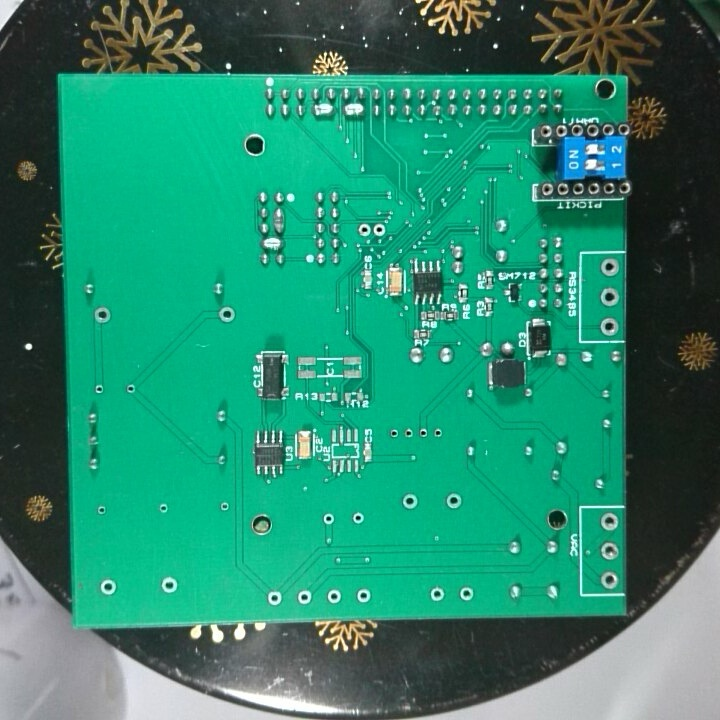F: (598, 540, 622, 565), (597, 256, 621, 280), (597, 285, 620, 310), (214, 303, 239, 326), (157, 573, 181, 596), (97, 575, 119, 600), (90, 304, 113, 327), (443, 490, 465, 512), (598, 568, 619, 591), (324, 586, 345, 609), (599, 511, 620, 533), (457, 584, 478, 606), (265, 586, 286, 608), (599, 315, 619, 338), (400, 490, 420, 512), (427, 584, 446, 606), (295, 586, 314, 608), (354, 586, 373, 607), (354, 220, 374, 239), (429, 423, 445, 445), (371, 220, 388, 240), (320, 510, 337, 529), (90, 379, 106, 398), (415, 424, 431, 443), (350, 509, 366, 528), (401, 426, 417, 443), (157, 500, 171, 518), (122, 381, 138, 396), (94, 502, 108, 519), (387, 426, 401, 442), (217, 499, 231, 514)
P: (271, 205, 289, 237), (310, 100, 337, 120), (259, 235, 288, 252), (342, 100, 365, 121)
